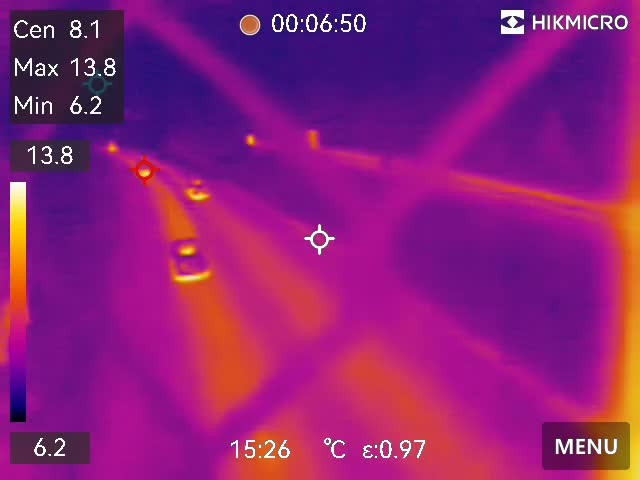vehicle: (165, 227, 211, 285), (187, 171, 214, 205)
